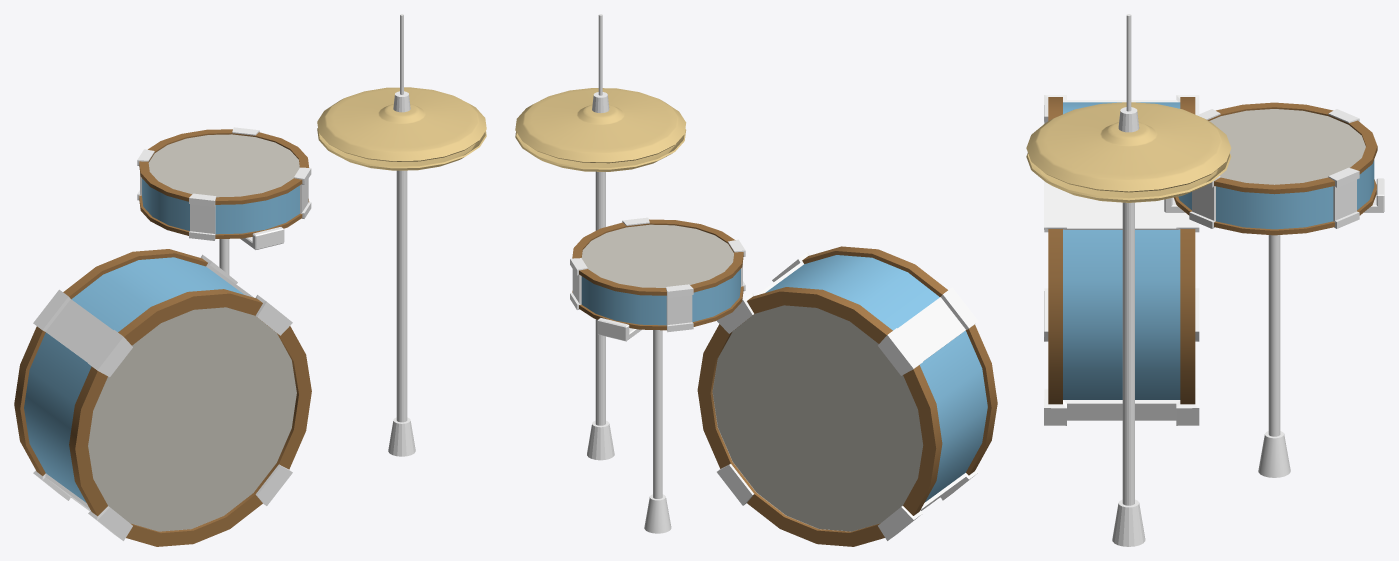
The model's file is SM_Drums.fbx.
The picture shows the model from 3 angles, left to right: view 1: azimuth 30°, elevation 25°; view 2: azimuth 150°, elevation 25°; view 3: azimuth 270°, elevation 25°; orthographic projection. The views are drawn at different scales.
Visible parts, largest first — view 1: pCylinder1, pCylinder6, pCylinder3, pCylinder7, pCylinder4, pCube37; view 2: pCylinder1, pCylinder6, pCylinder3, pCylinder7, pCylinder8, pCylinder4, pCube37; view 3: pCylinder1, pCylinder6, pCylinder3, pCylinder7, pCylinder8, pCylinder4, pCube37.
Boxes of the visible parts, x1,y1,x2,y2 form: pCylinder1: [14, 249, 311, 546]; pCylinder6: [137, 127, 311, 240]; pCylinder3: [317, 87, 486, 161]; pCylinder7: [388, 14, 415, 456]; pCylinder4: [317, 128, 486, 170]; pCube37: [240, 227, 284, 249]; pCylinder1: [697, 246, 997, 546]; pCylinder6: [570, 217, 745, 332]; pCylinder3: [515, 88, 686, 163]; pCylinder7: [587, 14, 614, 460]; pCylinder8: [644, 330, 671, 533]; pCylinder4: [515, 129, 686, 171]; pCube37: [597, 318, 641, 341]; pCylinder1: [1044, 95, 1199, 425]; pCylinder6: [1174, 102, 1377, 235]; pCylinder3: [1026, 102, 1231, 192]; pCylinder7: [1112, 14, 1145, 546]; pCylinder8: [1258, 235, 1290, 477]; pCylinder4: [1026, 153, 1231, 202]; pCube37: [1164, 178, 1384, 212].
Bounding box in the file's own units: 29.65 × 29.09 × 17.6.
